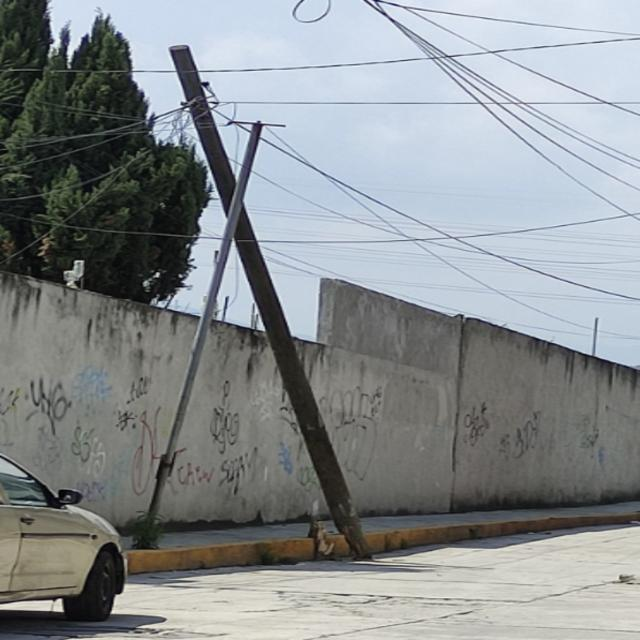Inclined Pole: (162, 42, 373, 553), (132, 121, 290, 549)
